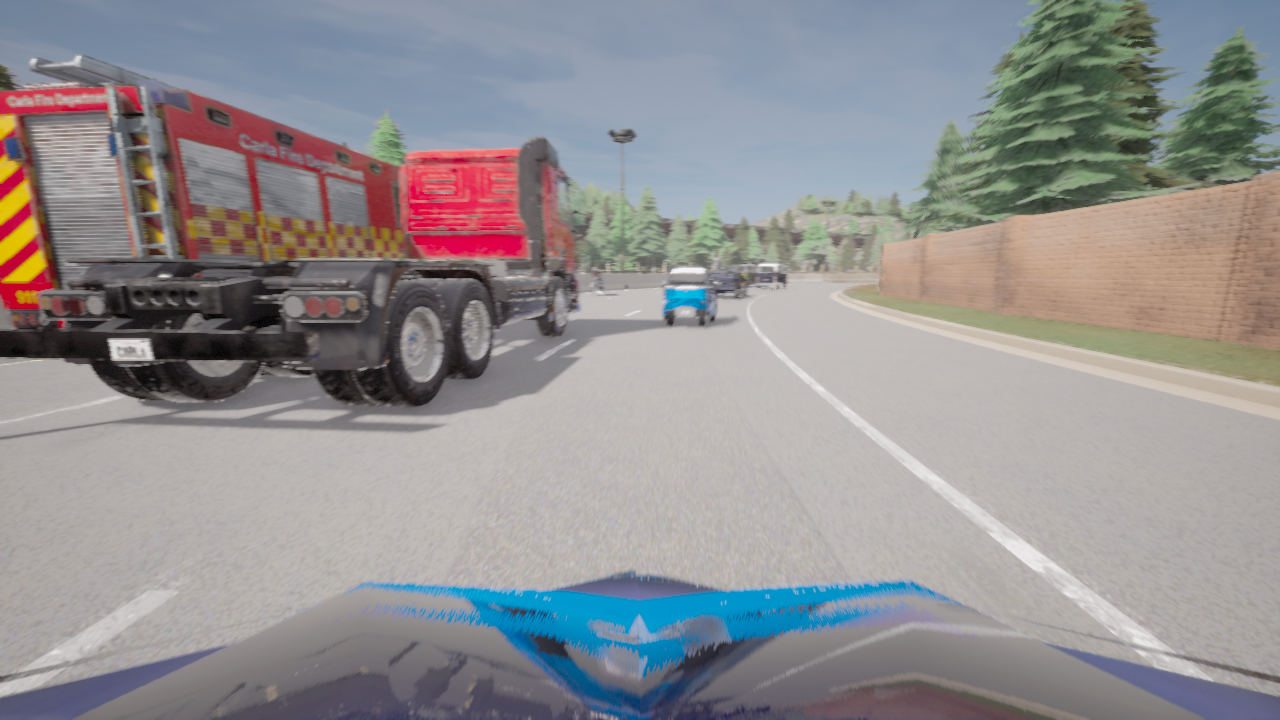cyclist: (0, 569, 1279, 719), (0, 137, 585, 406), (0, 55, 402, 328), (661, 267, 719, 326), (709, 270, 747, 297), (755, 263, 789, 288), (730, 265, 757, 286), (591, 281, 603, 295)
